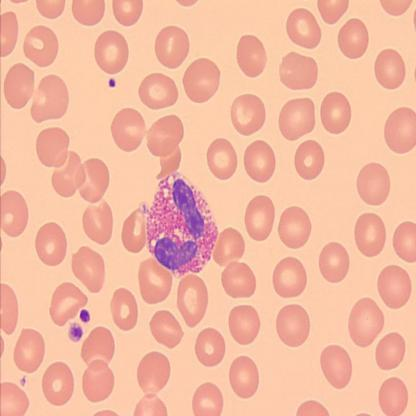Eosinophil: (143, 170, 221, 275)
